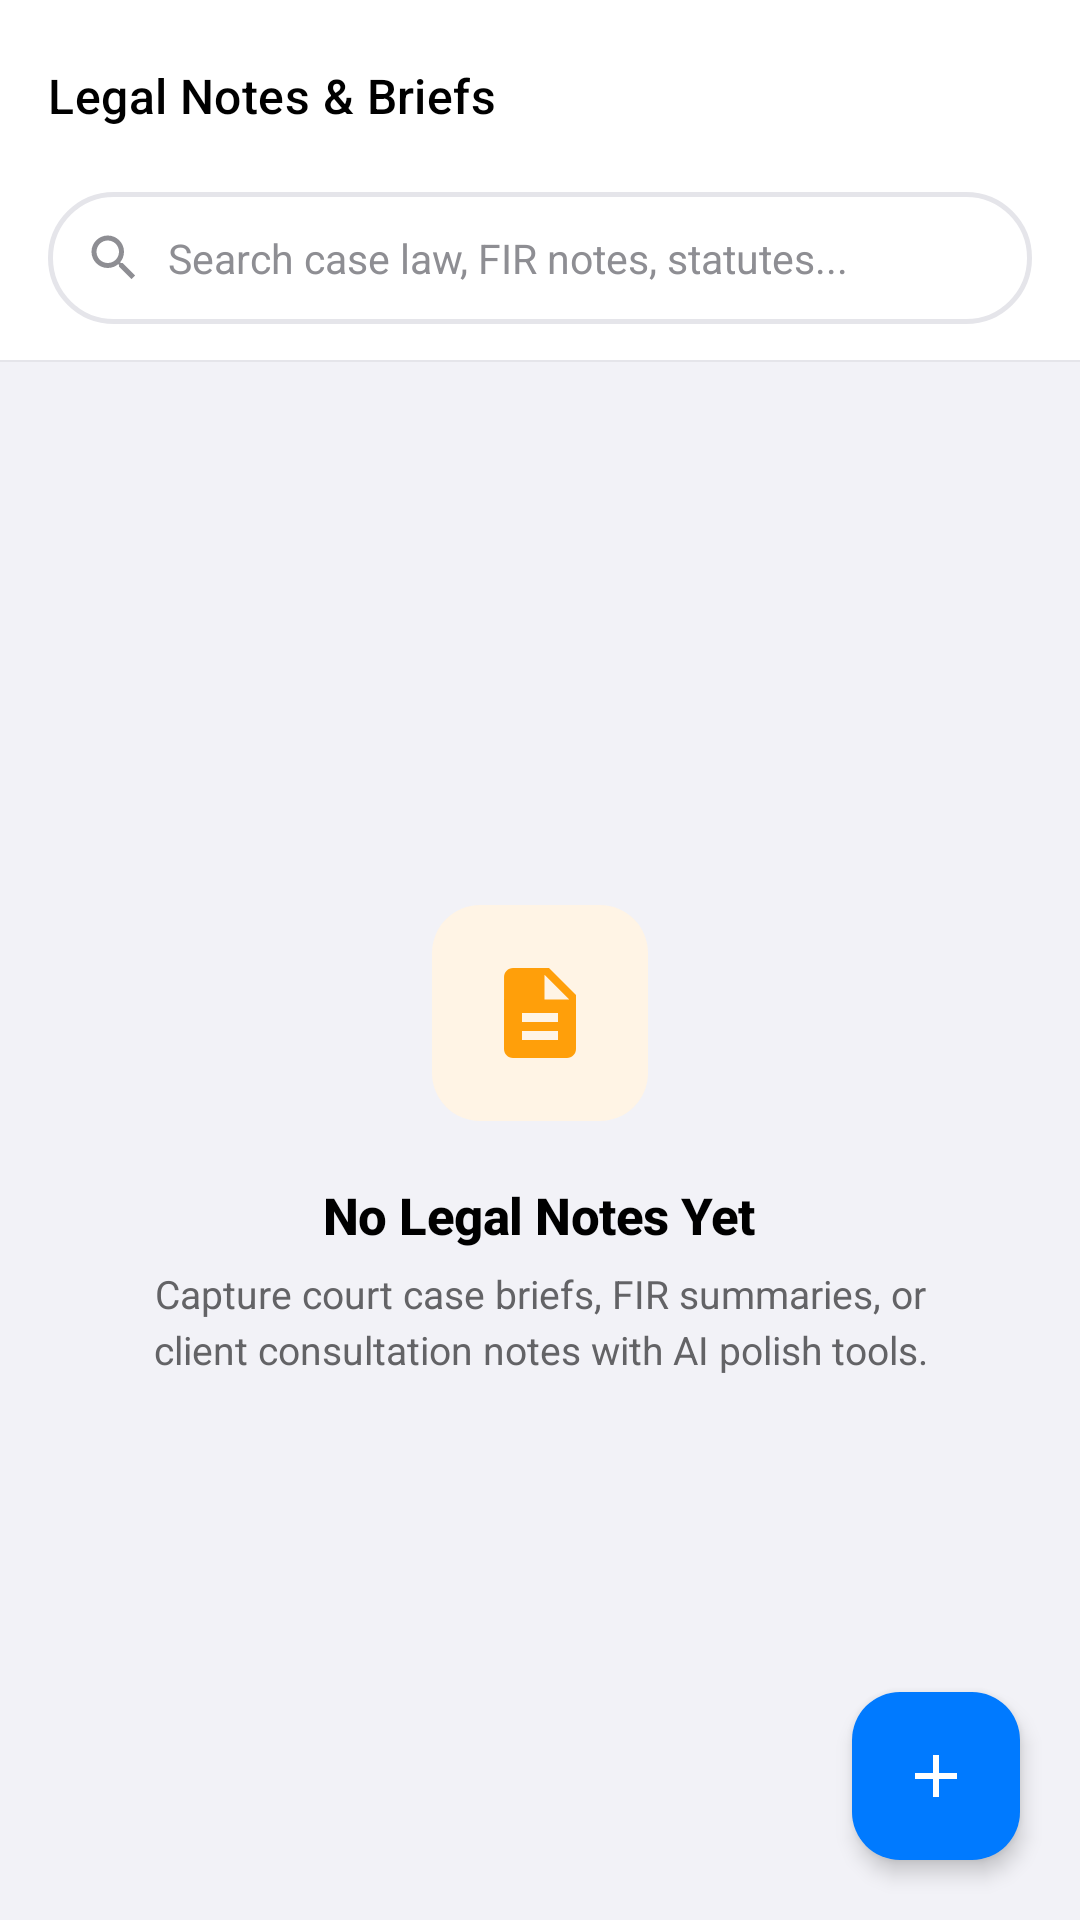

Locate icon controls on the screen. Image size 1080x1920, boxes as {"left": x1, "top": y1, "right": x2, "bottom": y2}.
New Legal Note: {"left": 852, "top": 1692, "right": 1020, "bottom": 1860}
